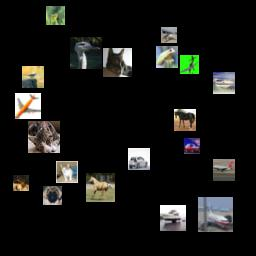airplane: (198, 197, 233, 232), (15, 93, 41, 119), (213, 159, 235, 181), (180, 55, 199, 74), (161, 27, 177, 43)
automobile: (128, 148, 150, 170), (184, 138, 200, 154)
bird: (70, 37, 102, 69), (22, 66, 44, 88), (46, 6, 65, 25)
cat: (28, 121, 60, 153), (103, 48, 132, 77), (56, 161, 78, 183)
deer: (13, 175, 29, 191)
dog: (43, 186, 62, 205)
frog: (156, 46, 178, 68)
ship: (160, 205, 186, 231), (213, 72, 235, 94)
